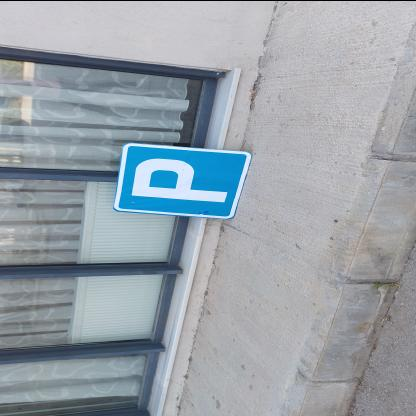Parking-Sign: (115, 143, 253, 219)
